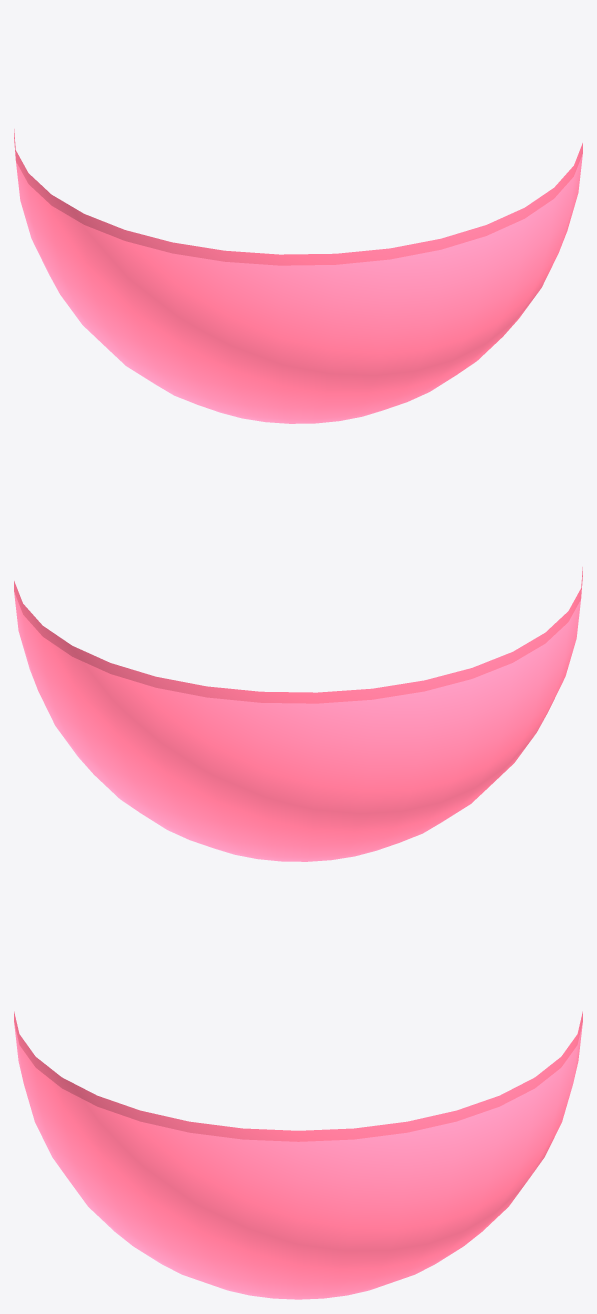
Rendered from pink-lower.glb.
3 views of the same model, one above another, from view 1: azimuth 30°, elevation 25°; view 2: azimuth 150°, elevation 25°; view 3: azimuth 270°, elevation 25° (orthographic).
Visible parts, largest first — view 1: pink-lower; view 2: pink-lower; view 3: pink-lower.
Boxes of the visible parts, <box> form: pink-lower: <box>14,129,582,423</box>; pink-lower: <box>14,567,582,861</box>; pink-lower: <box>14,1011,582,1299</box>.
Size of the model in its own units: 2 by 1.02 by 2.
